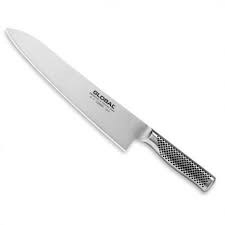kuchillu: (2, 24, 217, 196)
